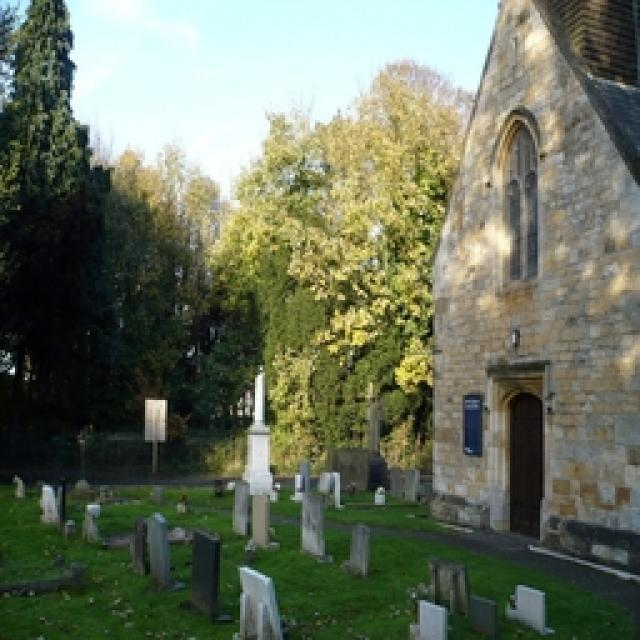Abbey: (413, 7, 640, 596)
